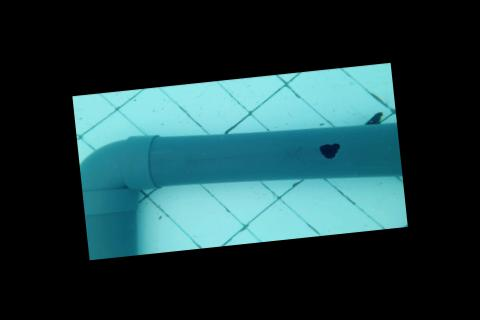kebocoran: (317, 140, 343, 160)
